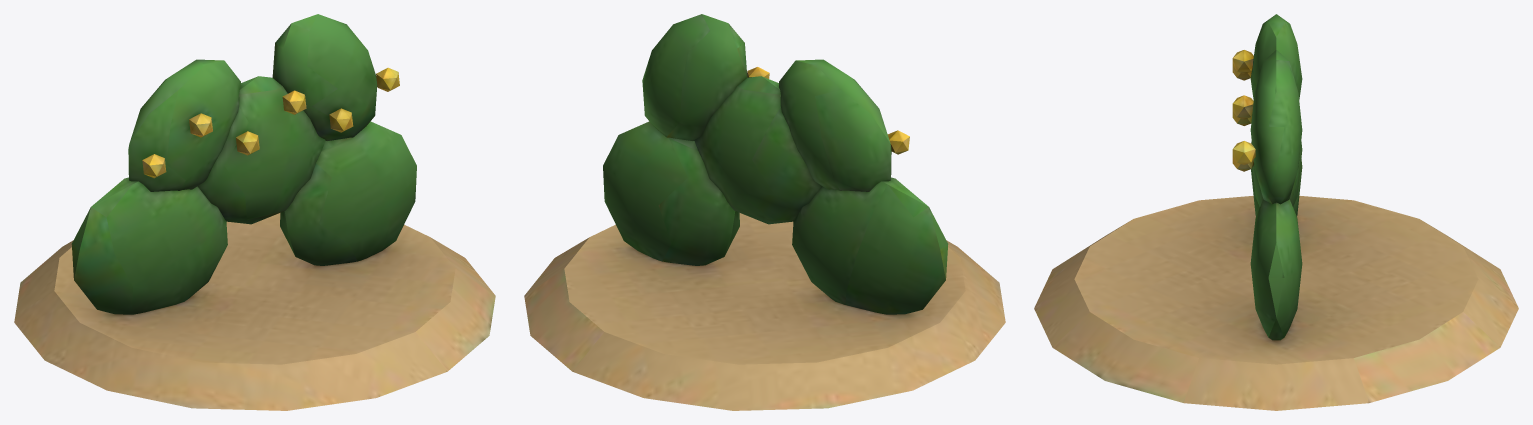
Rendered from nopal.glb.
3 views of the same model, side by side, from view 1: azimuth 30°, elevation 25°; view 2: azimuth 150°, elevation 25°; view 3: azimuth 270°, elevation 25° (orthographic).
Parts seen in each view (by area): view 1: nopal; view 2: nopal; view 3: nopal.
Boxes of the visible parts, bbox=[...] form: nopal: bbox=[14, 14, 495, 410]; nopal: bbox=[524, 14, 1005, 410]; nopal: bbox=[1034, 14, 1518, 410].
Bounding box in the file's own units: 1.8 × 1.14 × 1.8.
1 material, 1 textured.
